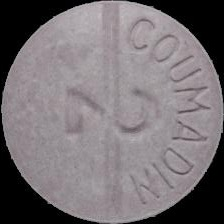0056-0170: (0, 0, 224, 224)
